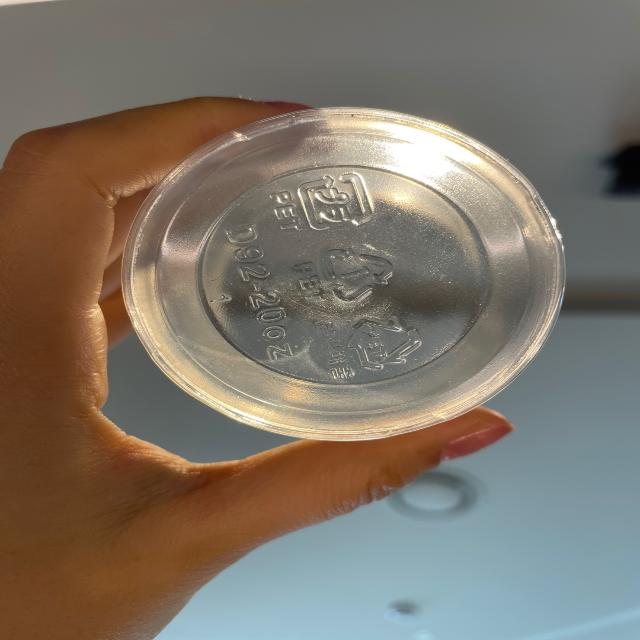pet: (317, 309, 424, 383), (269, 166, 379, 237), (291, 243, 402, 310)
